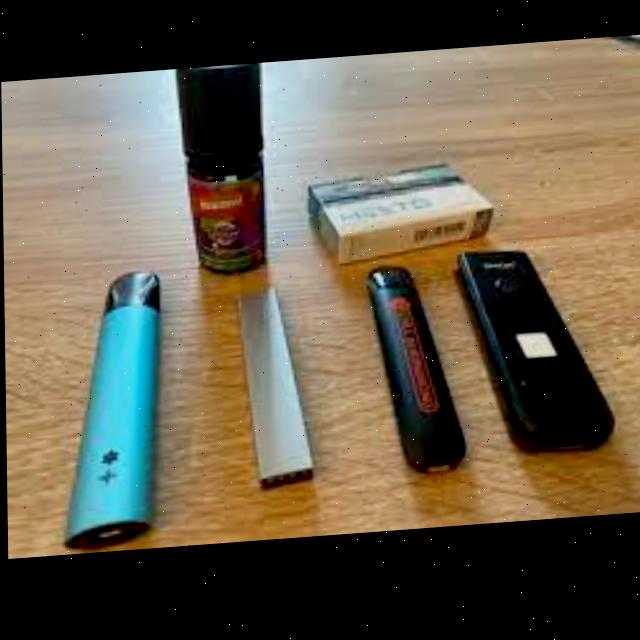vape: (452, 248, 613, 470), (55, 269, 163, 553), (367, 267, 464, 483), (237, 291, 315, 498)
